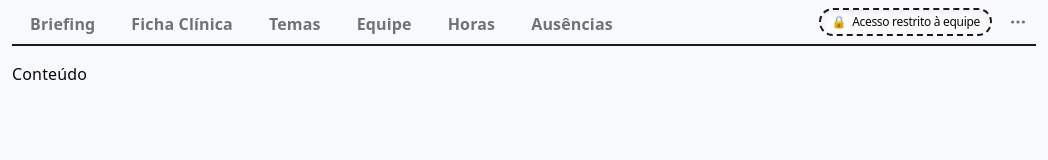
Test: PacienteLayout - ciclo de vida do prontuário (D65) › admin_recepcao arquiva mas NÃO dá alta
The image size is (1048, 160).
Click the button named "Ações do prontuário".
click(1018, 22)  # box [1000,4,1036,40]
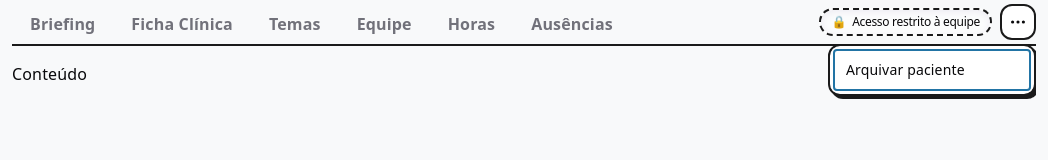
Expected: the menu is shown, [828,44,1036,96]
Expected: the menu item "Arquivar paciente" is shown, [834,50,1030,90]
